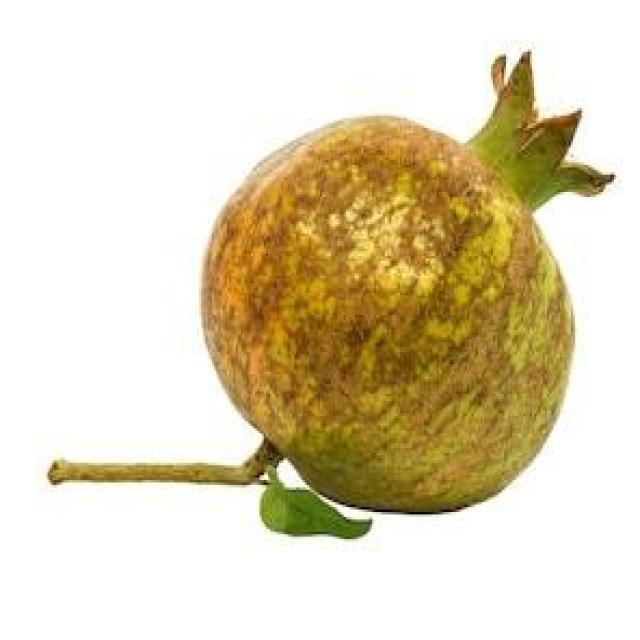Pomegranate: (195, 47, 617, 519)
